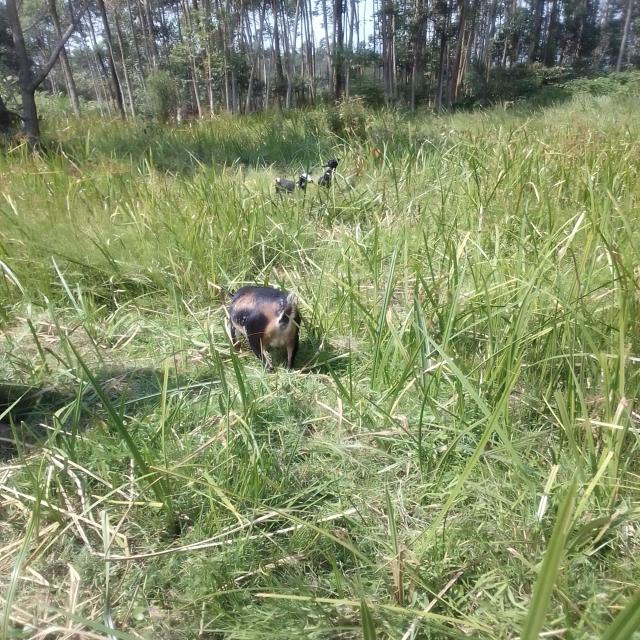goat: (186, 268, 365, 399)
